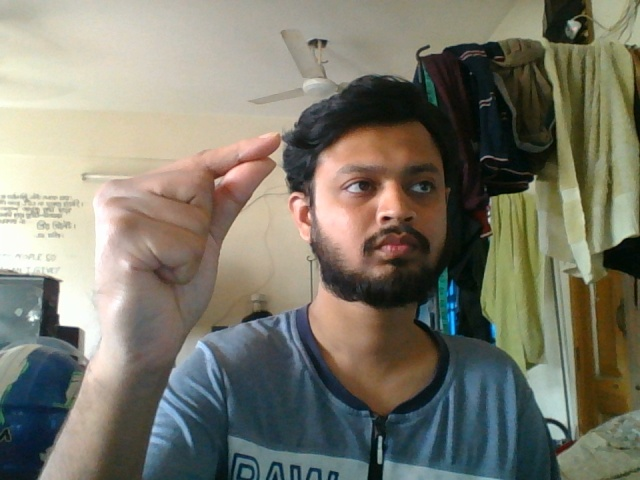onushhar: (72, 128, 289, 339)
